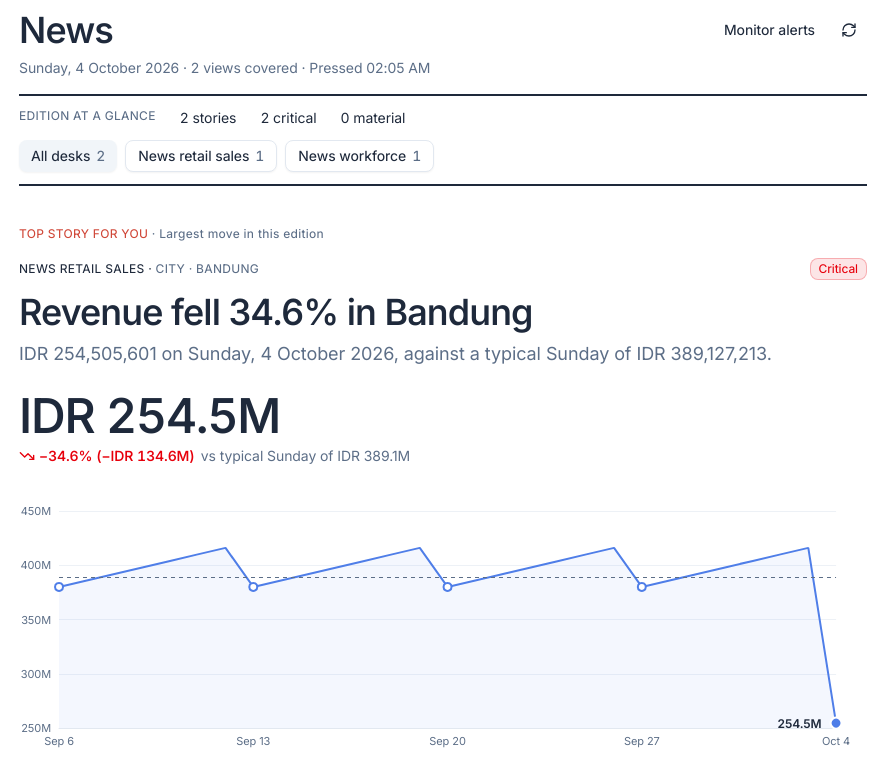
Scenario: names each story's desk and narrows the edition to one desk
This screenshot has width=884, height=773.
Check: the text "Sunday, 4 October 2026 · 2 views covered · Pressed 02:05 AM" is shown, box [19, 59, 430, 76]
Click the button "News workforce 1". click: (360, 156)
box: [285, 140, 434, 172]
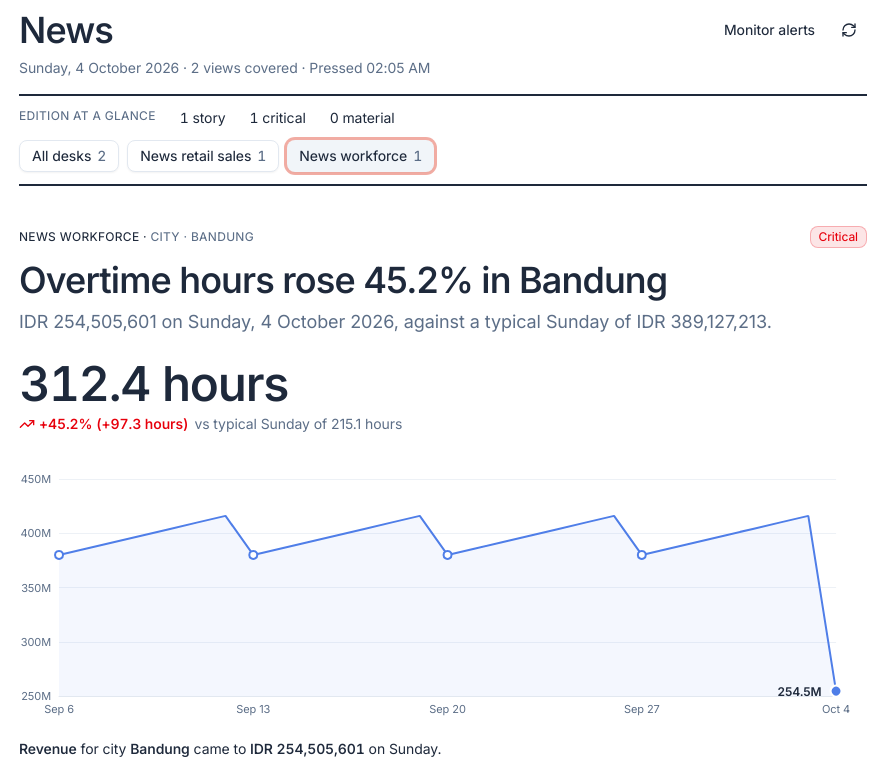
Check: the text "1 story" is shown, box [180, 108, 226, 128]
Click the button "All desks 2". click: (69, 156)
box: [19, 140, 119, 172]
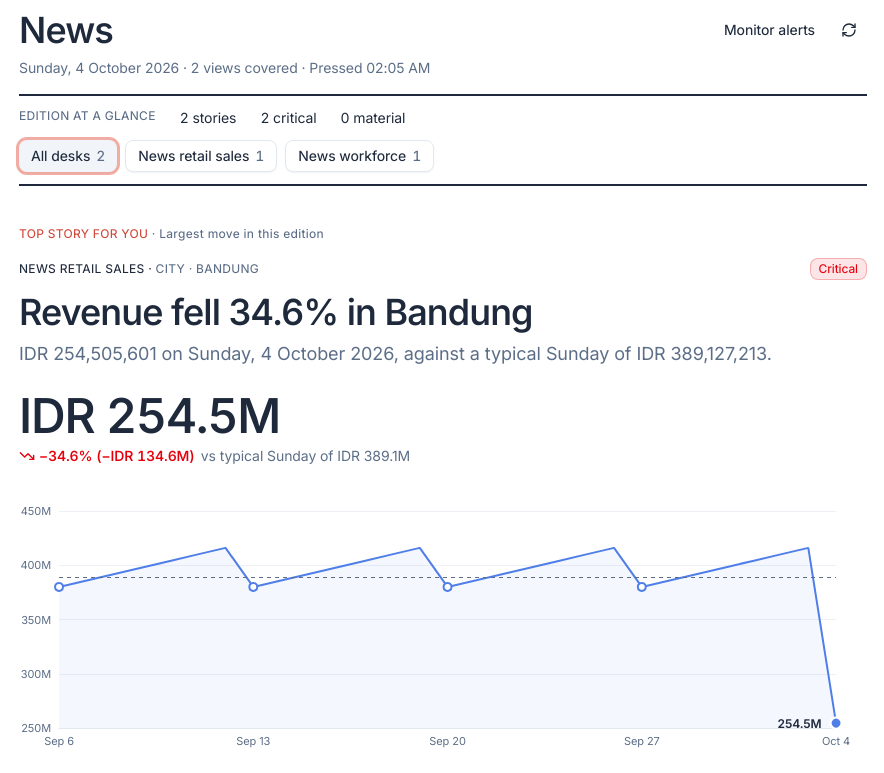
Check: the text "Top story for you · Largest move in this edition" is shown, box [19, 226, 324, 241]
